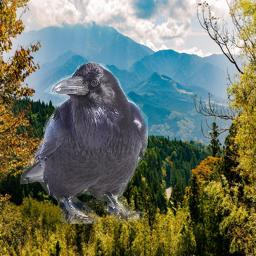Crow: (20, 60, 148, 224)
